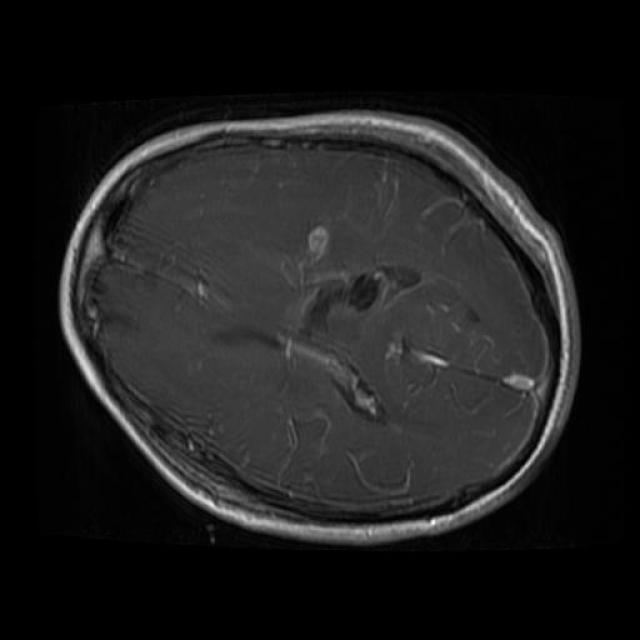Glioma: (298, 225, 423, 334)
